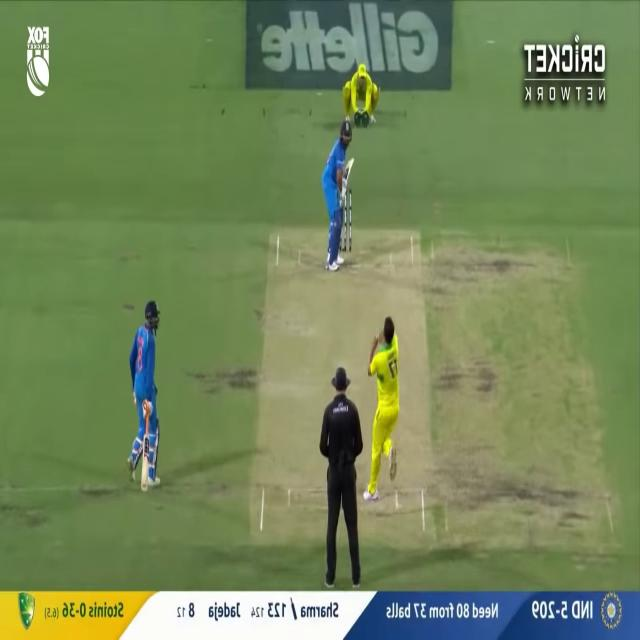stump: (341, 187, 352, 251), (338, 210, 343, 251)
